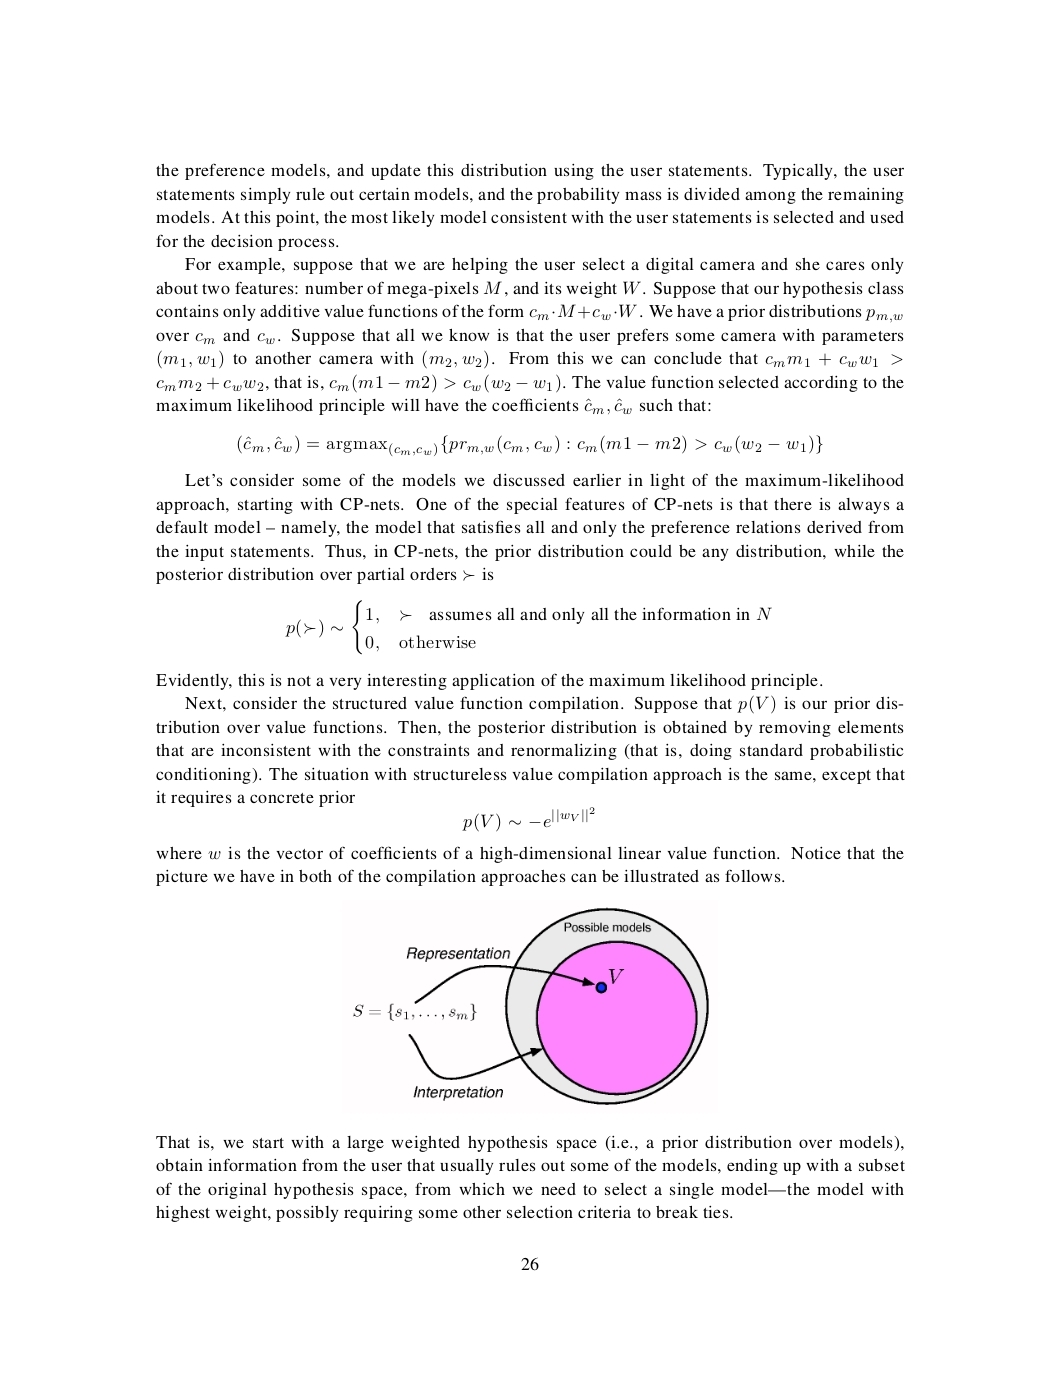figure: (353, 906, 708, 1106)
formula: (285, 598, 771, 655), (237, 434, 822, 457), (463, 806, 594, 832)
